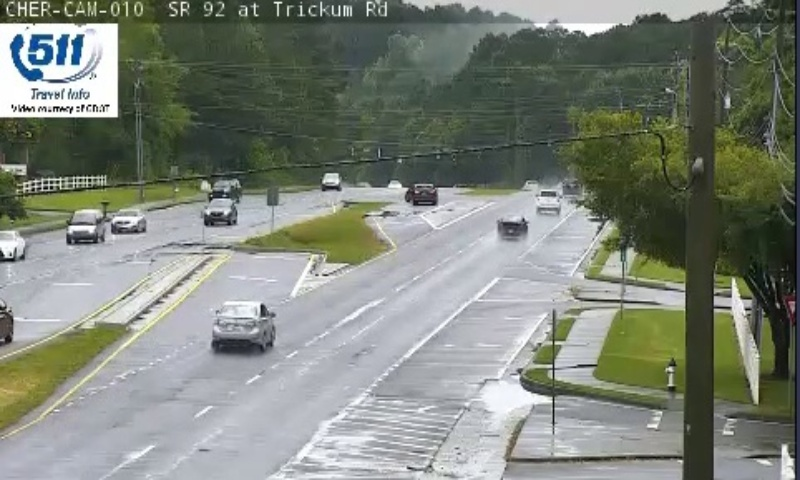car: (214, 301, 275, 346), (497, 214, 526, 240)
